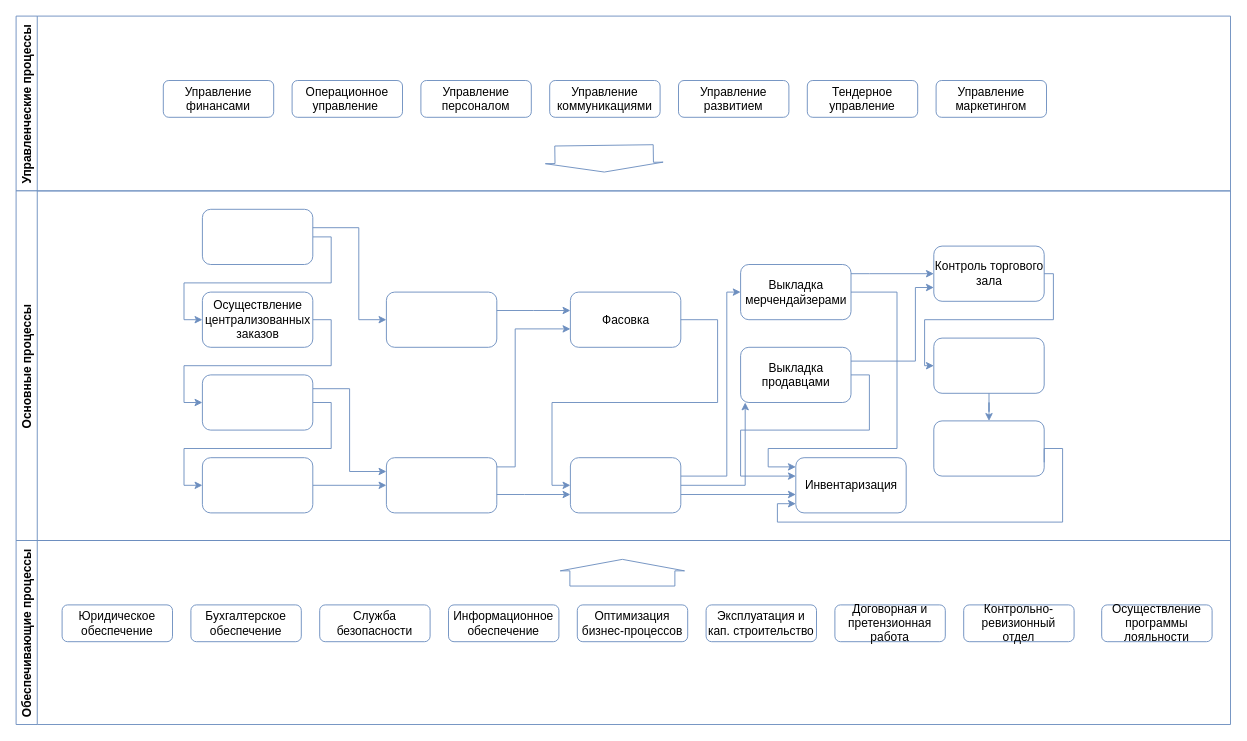
This 1247x741 diagram has some shape labels left out. The shapes that lost their labels are listed below. From the top down, each one's centre as x and y in pixels, then its label:
(257,236): Коммерческая деятельность
(441,319): Собственное производства
(988,365): Консультирование покупателей
(257,402): Аудит внутреннего товародвижения
(988,448): Осуществление продажи
(257,485): Хранение продукции на складе
(441,485): Приемка товара в магазине
(625,485): Хранение товаров на складе магазина
